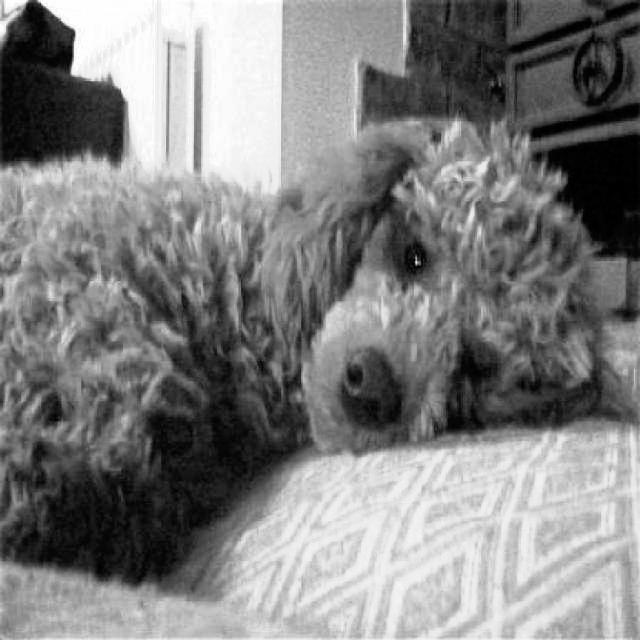Dog: (0, 103, 618, 568)
